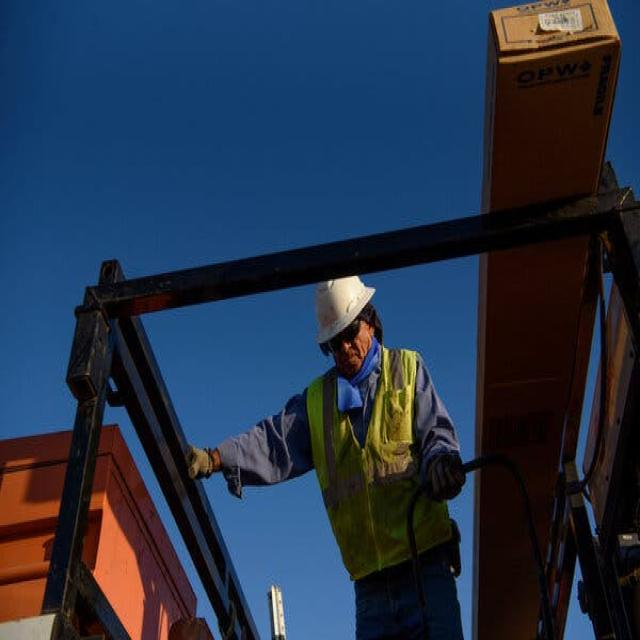goggles: (320, 317, 367, 355)
helmet: (305, 268, 377, 348)
vest: (310, 357, 417, 585)
